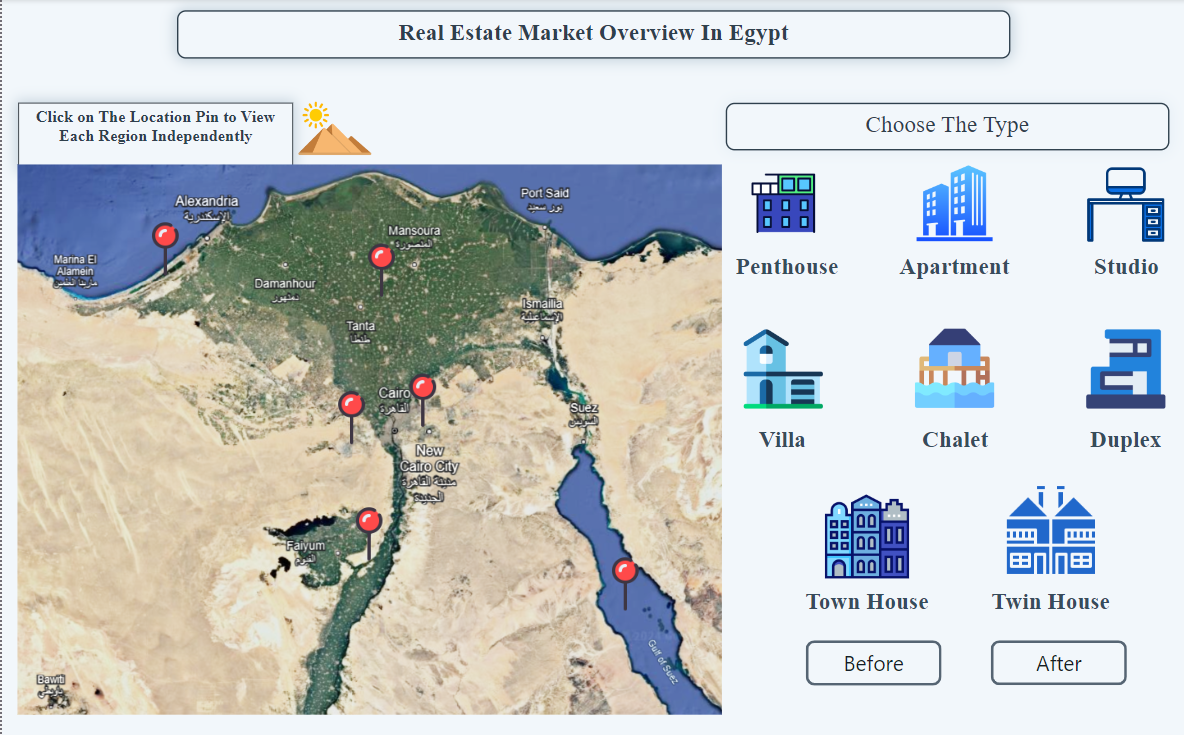

The page's visual inventory and layout, read from the dashboard file:
{"tool":"powerbi","page":{"name":"Menu","canvas":[1350,840],"ordinal":0},"visuals":[{"type":"image","box":[291,101.3,176.9,92.7],"z":0},{"type":"textbox","box":[18,119,313.9,76],"z":0,"group":"g1"},{"type":"textbox","box":[826,118.4,506.5,54.2],"z":1000},{"type":"image","box":[12.7,184.4,813.5,637.6],"z":1000,"group":"g1"},{"type":"textbox","box":[199.9,12.7,951.5,54.9],"z":2000},{"type":"image","box":[363.2,440.6,70.4,76],"z":2000,"group":"g1"},{"type":"image","box":[1037.2,158.4,99.9,149.8],"z":3000},{"type":"image","box":[384.3,572.9,70.4,76],"z":3000,"group":"g1"},{"type":"image","box":[1232.6,346.7,99.9,151.2],"z":4000},{"type":"image","box":[675.6,629.2,70.4,76],"z":4000,"group":"g1"},{"type":"image","box":[841.7,346,99.9,151.2],"z":5000},{"type":"image","box":[444.8,419.4,70.4,76],"z":5000,"group":"g1"},{"type":"image","box":[398.4,271.7,70.4,76],"z":6000,"group":"g1"},{"type":"image","box":[1137,516,119.8,179.8],"z":6000},{"type":"image","box":[150.6,247.7,70.4,76],"z":7000,"group":"g1"},{"type":"image","box":[934.4,535,105.6,156.9],"z":7000},{"type":"image","box":[1232.6,158.4,100,150],"z":8000},{"type":"image","box":[1037.2,346,99.9,149.8],"z":9000},{"type":"image","box":[841.7,158.4,100,150],"z":10000},{"type":"group","id":"g1","title":"Group 1","box":[12.7,119,813.5,703],"z":11000},{"type":"textbox","box":[1234,285.3,98.4,47.1],"z":12000},{"type":"textbox","box":[1008,285.3,156.9,47.1],"z":13000},{"type":"textbox","box":[826,285,139.8,47.1],"z":14000},{"type":"textbox","box":[1232.6,482.2,99.9,47.1],"z":15000},{"type":"textbox","box":[1038.6,482.2,98.4,47.1],"z":16000},{"type":"textbox","box":[841.7,482,98,47],"z":17000},{"type":"textbox","box":[1119.9,667.7,154.1,47.1],"z":18000},{"type":"textbox","box":[903.1,667.7,168.3,47.1],"z":19000},{"type":"actionButton","box":[916.7,731.7,155,51.7],"z":20000},{"type":"actionButton","box":[1101.7,731.7,155,51.7],"z":21000}]}

Visuals, with their boxes in screenshot pixels (x1, y1, x2, y2), scaled from the page's 1350x840 canvas onto the 1184x735 screenshot:
image: 255:89:410:170
textbox: 16:104:291:171
textbox: 724:104:1169:151
image: 11:161:725:719
textbox: 175:11:1010:59
image: 319:386:380:452
image: 910:139:997:270
image: 337:501:399:568
image: 1081:303:1169:436
image: 593:551:654:617
image: 738:303:826:435
image: 390:367:452:433
image: 349:238:411:304
image: 997:452:1102:609
image: 132:217:194:283
image: 820:468:912:605
image: 1081:139:1169:270
image: 910:303:997:434
image: 738:139:826:270
"Group 1" group: 11:104:725:719
textbox: 1082:250:1169:291
textbox: 884:250:1022:291
textbox: 724:249:847:291
textbox: 1081:422:1169:463
textbox: 911:422:997:463
textbox: 738:422:824:463
textbox: 982:584:1117:625
textbox: 792:584:940:625
actionButton: 804:640:940:685
actionButton: 966:640:1102:685
